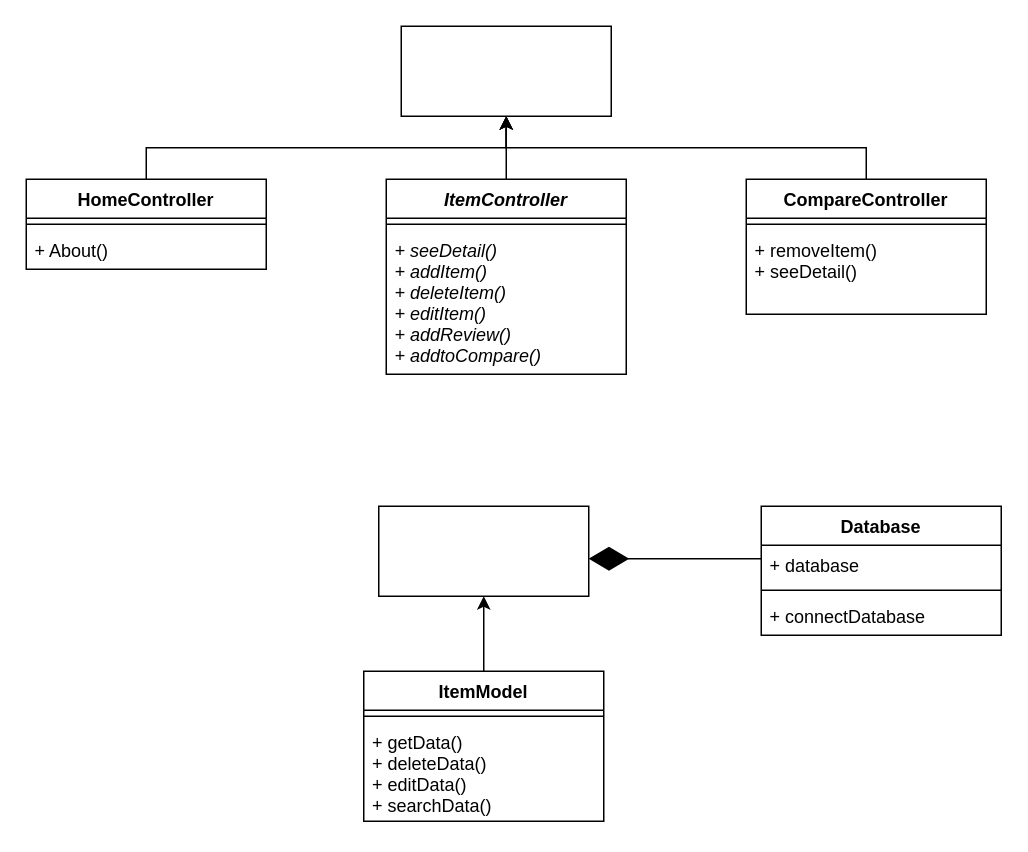
This 1028x852 diagram has some shape labels left out. The centre of each missing label's shape, as x and y in pixels:
Controller: the point at 505,70
Model: the point at 483,550
